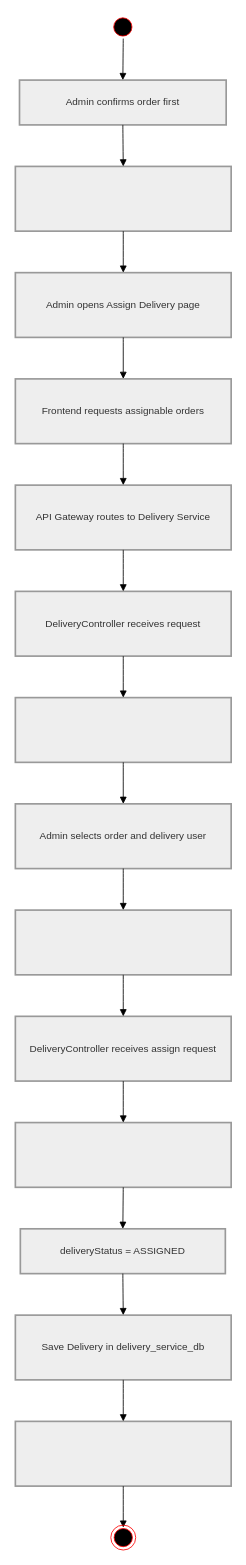
Image size: 246x1565. Some labels were removed from this diagram. Each missing label, with the box of its shape:
DeliveryService creates Delivery record: (14, 1121, 232, 1188)
DeliveryService fetches confirmed orders: (14, 696, 232, 763)
Frontend sends assign request: (14, 909, 232, 975)
Order status becomes CONFIRMED: (14, 165, 232, 232)
Return DeliveryResponse to Admin: (14, 1420, 232, 1487)
